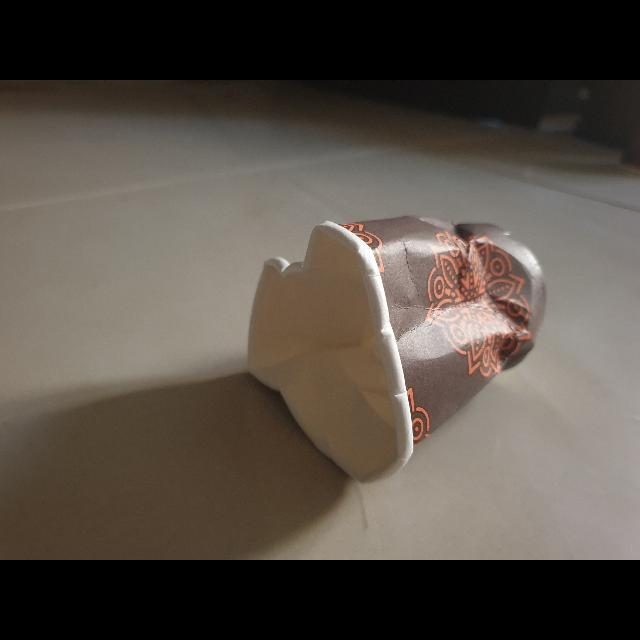trash: (232, 212, 552, 490)
